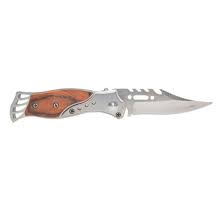Knife: (10, 87, 218, 127)
